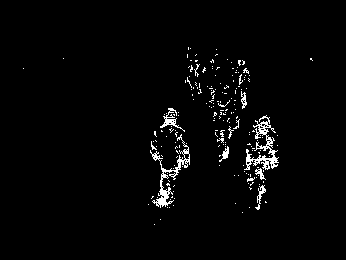person: (152, 104, 192, 212), (247, 110, 280, 213), (210, 86, 239, 168)
